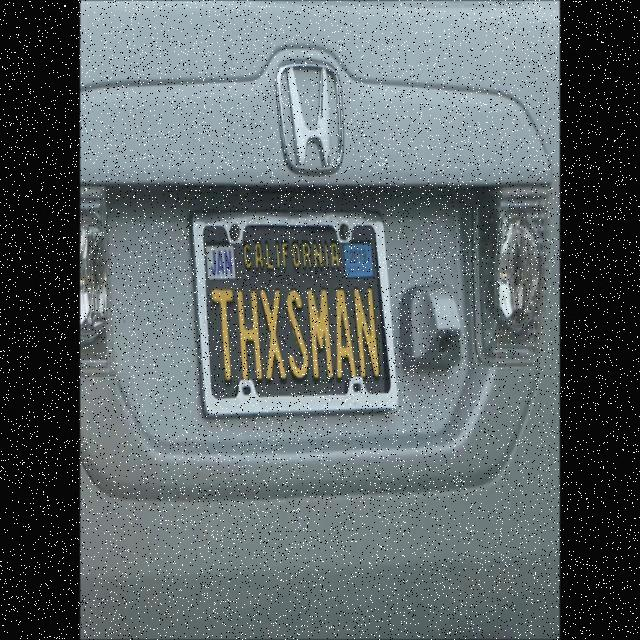licenseplate: (187, 198, 400, 420)
